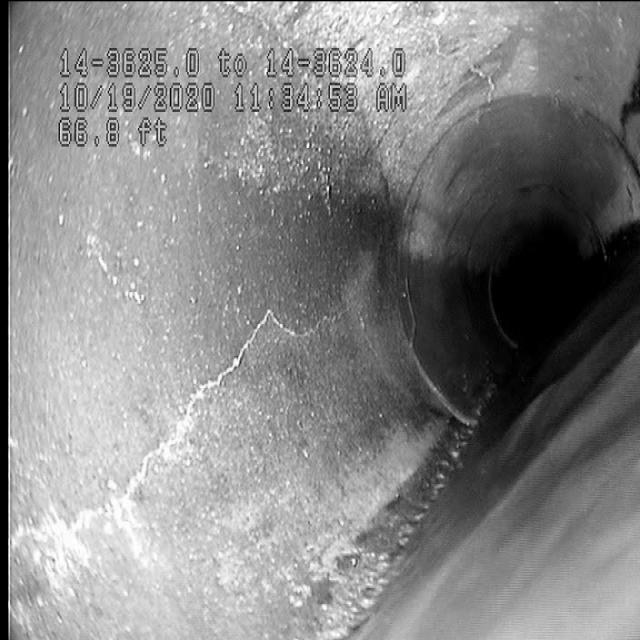Crack: (68, 274, 292, 554)
